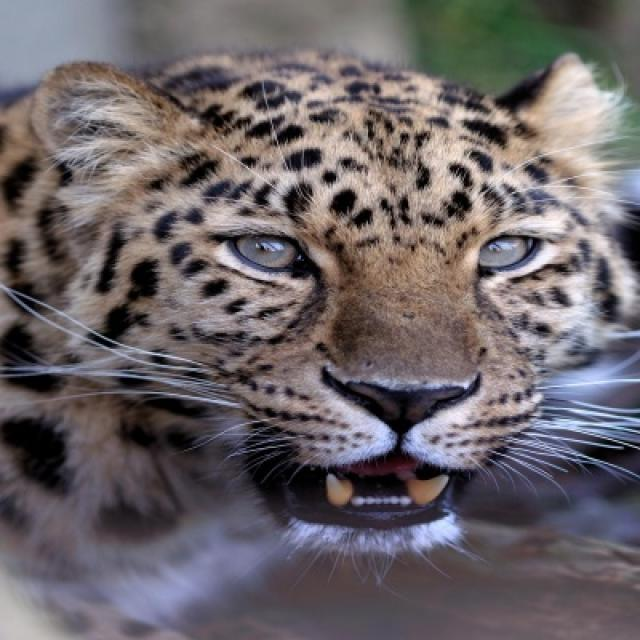Jaguar: (0, 46, 638, 618)
